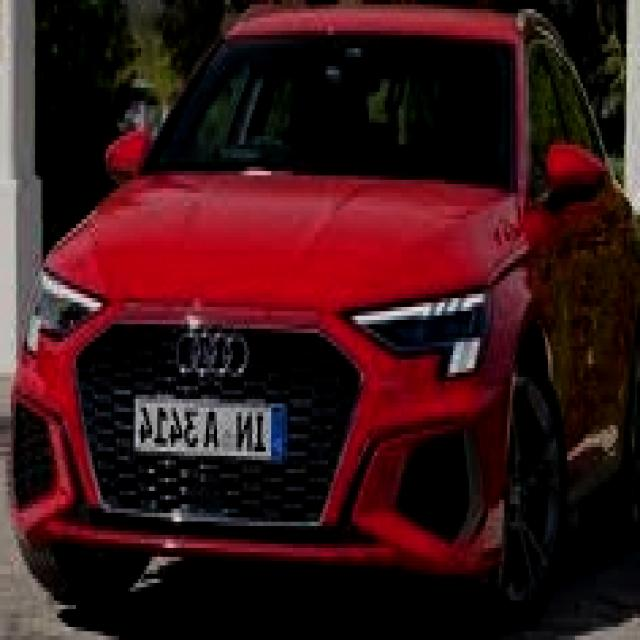red: (6, 3, 638, 565)
